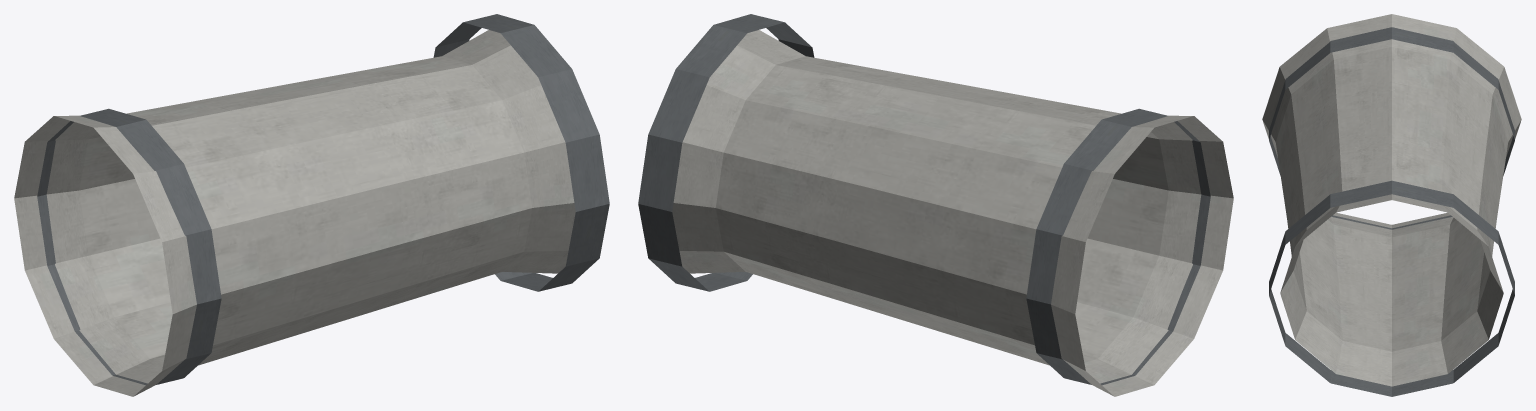
Rendered from eq_future_1_arm.glb.
3 renders of one model, left to right at view 1: azimuth 30°, elevation 25°; view 2: azimuth 150°, elevation 25°; view 3: azimuth 270°, elevation 25°, orthographic. The views are drawn at different scales.
Parts seen in each view (by area): view 1: eq_future_1_arm; view 2: eq_future_1_arm; view 3: eq_future_1_arm.
Boxes of the visible parts, <box> form: eq_future_1_arm: <box>14,14,609,396</box>; eq_future_1_arm: <box>638,14,1233,396</box>; eq_future_1_arm: <box>1262,14,1521,396</box>.
Bounding box in the file's own units: 0.233 × 0.13 × 0.145.
2 materials, 2 textured.
